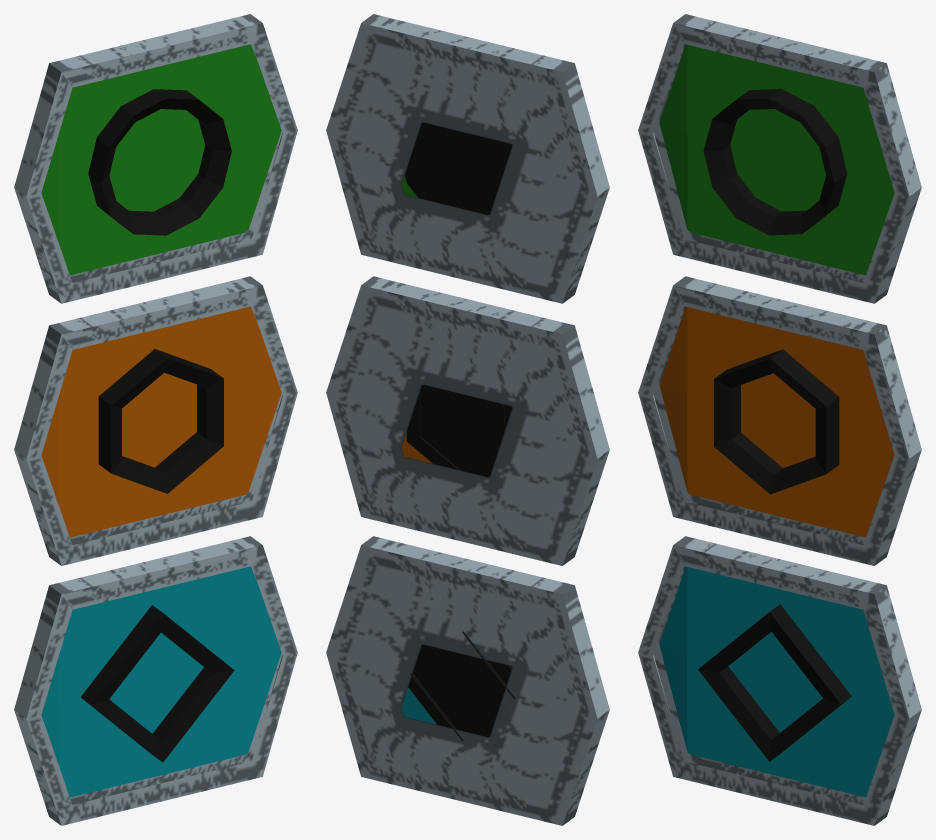
The model's file is TriangleSigns.fbx.
3 renders of one model, left to right at view 1: azimuth 30°, elevation 25°; view 2: azimuth 150°, elevation 25°; view 3: azimuth 330°, elevation 25°, orthographic.
Visible parts, largest first — view 1: WaterSign, LaboratorySign, ElectricitySign, Cylinder, SingHex, SingCube; view 2: WaterSign, ElectricitySign, LaboratorySign, Cylinder, SingHex, SingCube; view 3: WaterSign, LaboratorySign, ElectricitySign, SingHex, Cylinder, SingCube.
Part boxes in pixels (box(x1,y1,x2,y2)): WaterSign: box(14, 536, 297, 825); LaboratorySign: box(14, 14, 297, 303); ElectricitySign: box(14, 276, 297, 565); Cylinder: box(88, 89, 231, 235); SingHex: box(98, 349, 223, 493); SingCube: box(80, 605, 234, 762); WaterSign: box(326, 536, 609, 825); ElectricitySign: box(326, 276, 609, 565); LaboratorySign: box(326, 14, 609, 303); Cylinder: box(405, 122, 512, 214); SingHex: box(406, 385, 512, 477); SingCube: box(408, 631, 515, 741); WaterSign: box(638, 536, 921, 825); LaboratorySign: box(638, 14, 921, 303); ElectricitySign: box(638, 276, 921, 565); SingHex: box(714, 349, 839, 494); Cylinder: box(703, 89, 847, 235); SingCube: box(698, 604, 851, 761).
Bounding box in the file's own units: 0.3791 × 1.01 × 0.0444.
